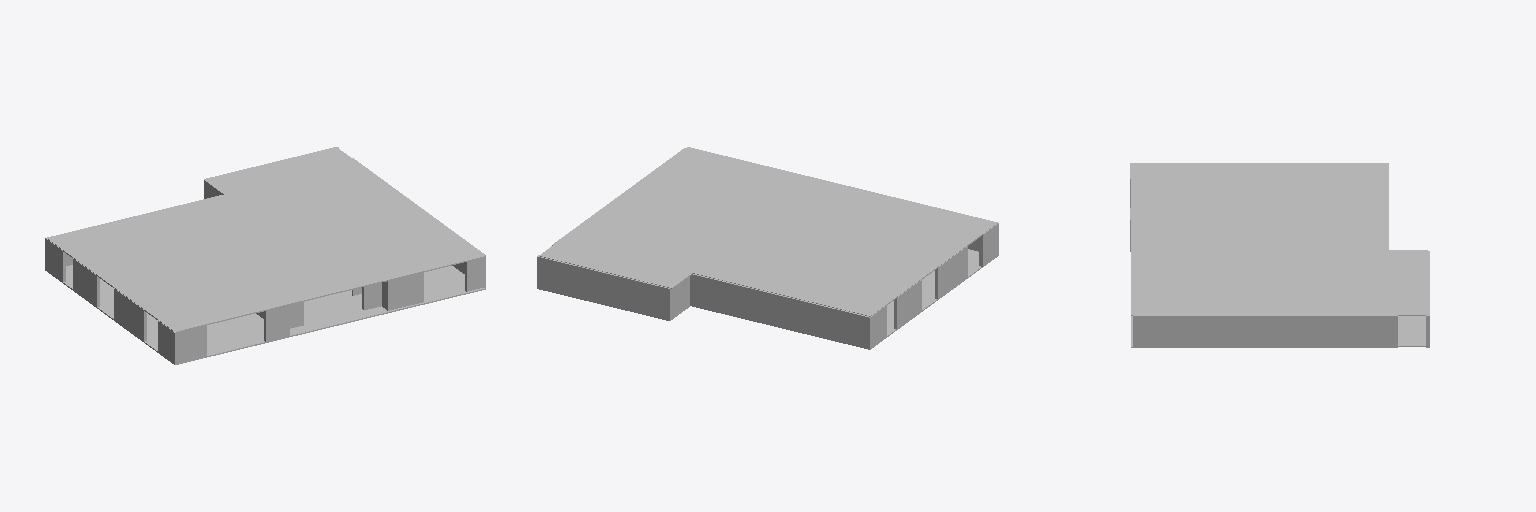
Rendered from casalofttextura.obj.
3 views of the same model, side by side, from view 1: azimuth 30°, elevation 25°; view 2: azimuth 150°, elevation 25°; view 3: azimuth 270°, elevation 25° (orthographic).
Parts seen in each view (by area): view 1: TechoYsuelo pCube53, pCube50 TechoYsuelo, TechoYsuelo pCube52, LoftParedes pCube6, LoftParedes pCube14, LoftParedes pCube8, LoftParedes pCube5, LoftParedes pCube9, LoftParedes pCube7, LoftParedes pCube15, LoftParedes pCube4; view 2: TechoYsuelo pCube53, LoftParedes pCube2, pCube1 LoftParedes, TechoYsuelo pCube52, LoftParedes pCube6, pCube50 TechoYsuelo, LoftParedes pCube5, LoftParedes pCube7, LoftParedes pCube3; view 3: TechoYsuelo pCube53, LoftParedes pCube16, TechoYsuelo pCube52, TechoYsuelo pCube51.
Boxes of the visible parts, <box> form: TechoYsuelo pCube53: <box>47,162,485,331</box>; pCube50 TechoYsuelo: <box>49,265,485,364</box>; TechoYsuelo pCube52: <box>204,147,356,194</box>; LoftParedes pCube6: <box>114,288,146,341</box>; LoftParedes pCube14: <box>391,272,423,309</box>; LoftParedes pCube8: <box>178,325,206,363</box>; LoftParedes pCube5: <box>73,258,99,307</box>; LoftParedes pCube9: <box>264,304,289,341</box>; LoftParedes pCube7: <box>158,320,177,364</box>; LoftParedes pCube15: <box>465,254,485,291</box>; LoftParedes pCube4: <box>47,239,65,282</box>; TechoYsuelo pCube53: <box>560,147,997,316</box>; LoftParedes pCube2: <box>690,274,871,349</box>; pCube1 LoftParedes: <box>537,255,669,320</box>; TechoYsuelo pCube52: <box>539,241,692,288</box>; LoftParedes pCube6: <box>935,246,967,299</box>; pCube50 TechoYsuelo: <box>873,249,996,347</box>; LoftParedes pCube5: <box>894,280,921,329</box>; LoftParedes pCube7: <box>979,223,998,266</box>; LoftParedes pCube3: <box>669,277,689,320</box>; TechoYsuelo pCube53: <box>1131,163,1386,315</box>; LoftParedes pCube16: <box>1133,315,1397,347</box>; TechoYsuelo pCube52: <box>1387,250,1427,315</box>; TechoYsuelo pCube51: <box>1398,316,1425,346</box>.
Size of the model in its own units: 30.75 by 3.15 by 25.55.